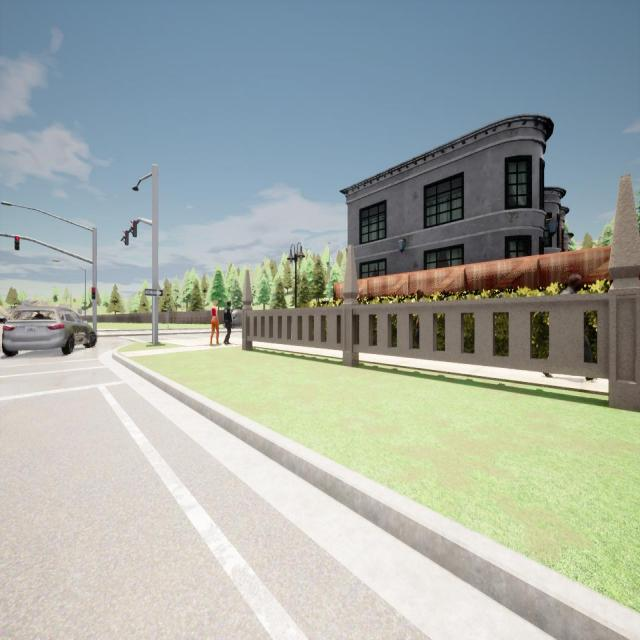Pedestrian: (541, 272, 599, 382), (208, 299, 220, 347), (223, 300, 232, 345)
Traffic_Signs: (145, 288, 163, 296)
Vehicle: (2, 307, 96, 356), (225, 309, 242, 329)
traffic_light: (130, 220, 137, 238), (122, 230, 129, 246), (14, 237, 20, 250), (92, 287, 95, 300)
